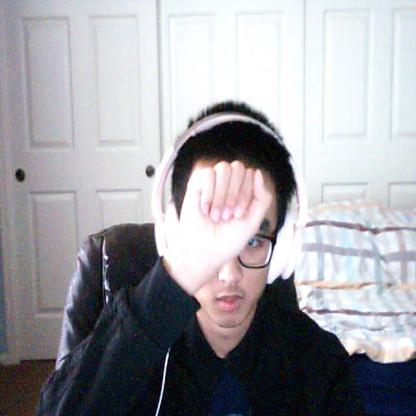fist: (176, 162, 275, 267)
